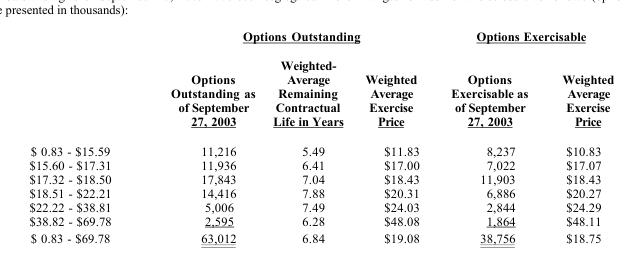table: (28, 29, 613, 245)
table column: (140, 29, 263, 245), (28, 29, 140, 245), (434, 29, 544, 245), (263, 29, 353, 245), (353, 29, 434, 245), (544, 29, 613, 245)
table column header: (28, 29, 613, 135)
table row: (28, 50, 613, 135), (28, 135, 613, 158), (28, 29, 613, 50), (28, 213, 613, 229), (28, 229, 613, 245), (28, 171, 613, 185), (28, 185, 613, 199), (28, 199, 613, 213), (28, 158, 613, 171)
table spanning cell: (140, 29, 434, 50), (434, 29, 613, 50)
